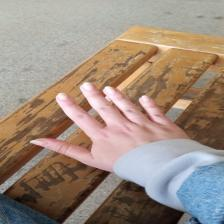five: (27, 80, 202, 176)
